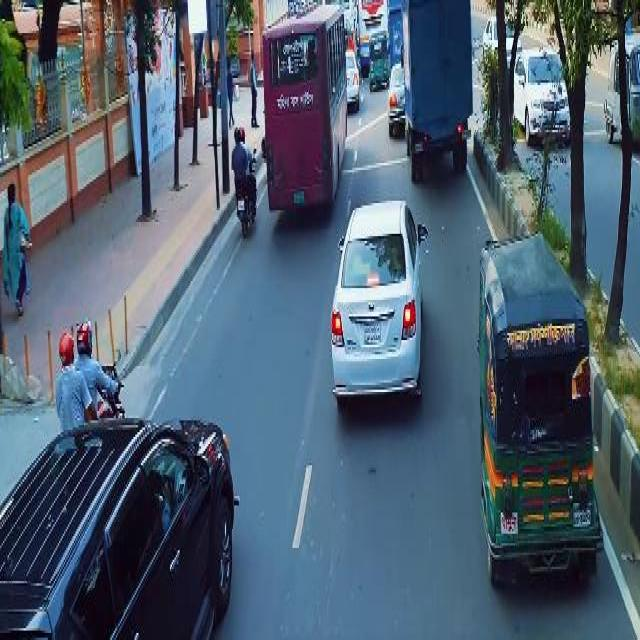10: (231, 143, 259, 242)
11: (396, 0, 474, 184)
17: (469, 229, 609, 595), (367, 30, 389, 98)
5: (329, 196, 428, 406), (514, 44, 572, 150)
Truck: (260, 2, 348, 215)
